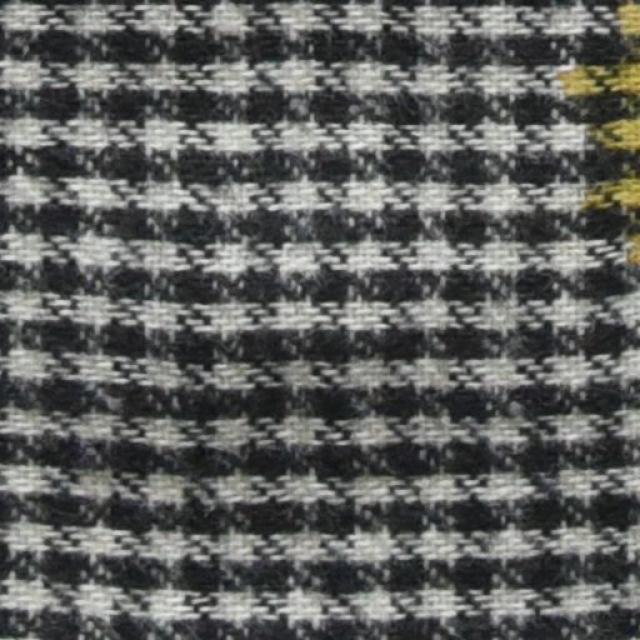Stain: (554, 6, 639, 231)
